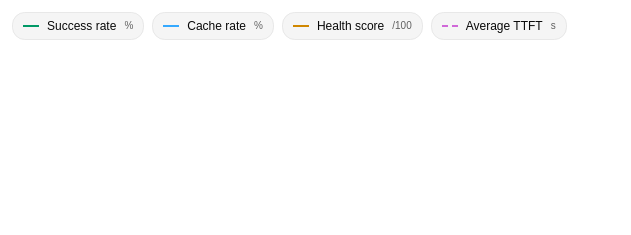
channel monitoring overview › line chart keeps one metric selected and reports missing data for that selection
The image size is (631, 235).
Step 1. Click the button "Success rate %" → (78, 26), box [12,12,144,40]
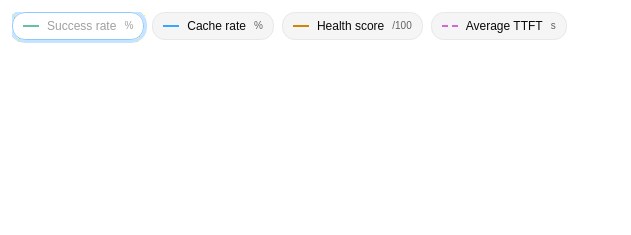
Step 2. Click the button "Health score /100" → (352, 26), box [282,12,423,40]
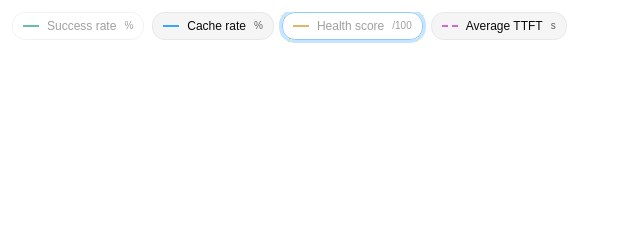
Step 3. Click the button "Average TTFT s" → (499, 26), box [431,12,567,40]
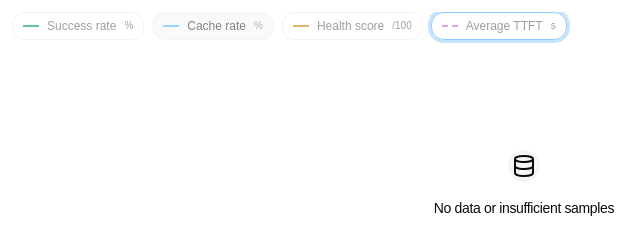
Now the button "Cache rate %" is disabled, box [152,12,274,40]
Now the text "No data or insufficient samples" is shown, box [434,198,614,218]
Step 4. Click the button "Success rate %" → (78, 26), box [12,12,144,40]
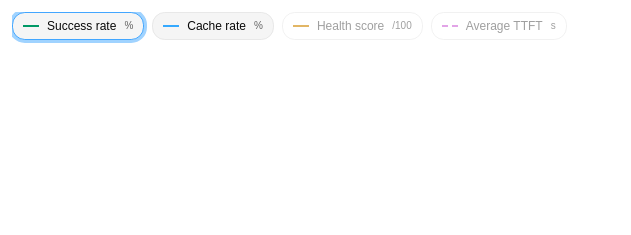
Now the button "Cache rate %" is enabled, box [152,12,274,40]
Now the text "No data or insufficient samples" is gone
